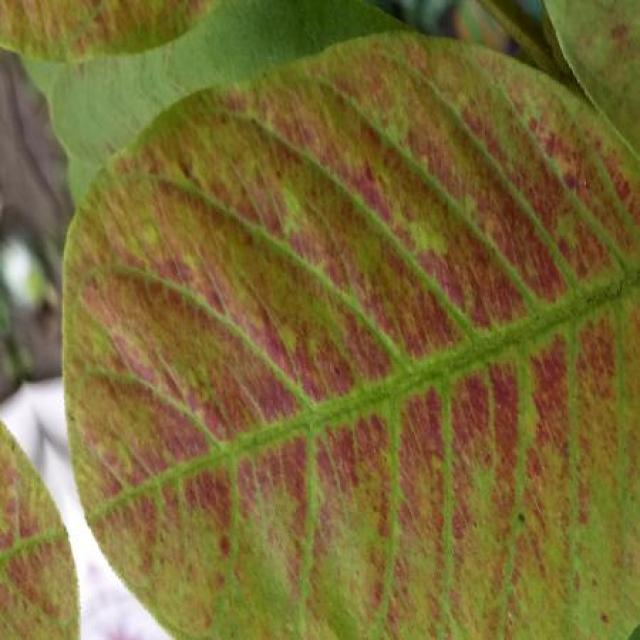Red Rust: (65, 32, 640, 640), (1, 429, 75, 639)
